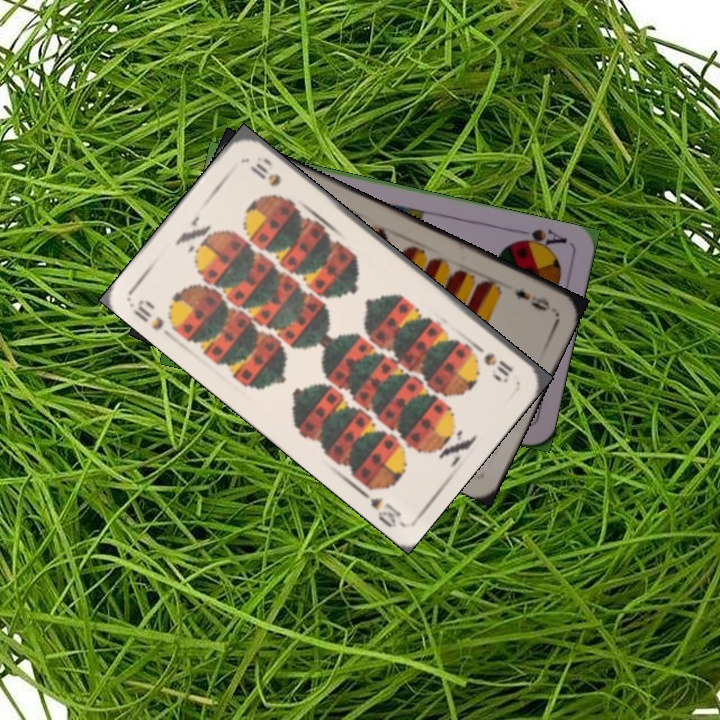E9: (511, 286, 553, 314)
S10: (469, 339, 516, 384), (129, 295, 167, 334)
SA: (510, 225, 570, 254)
